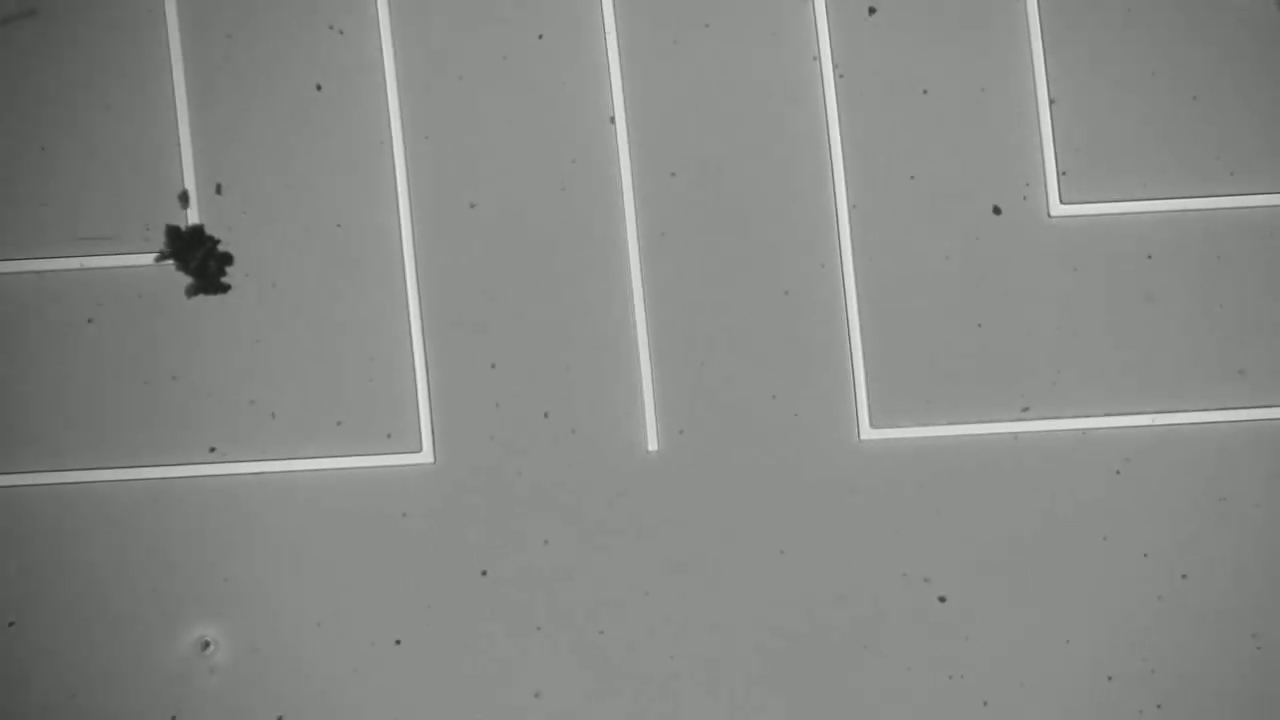stains_enbedded: (140, 201, 252, 306)
